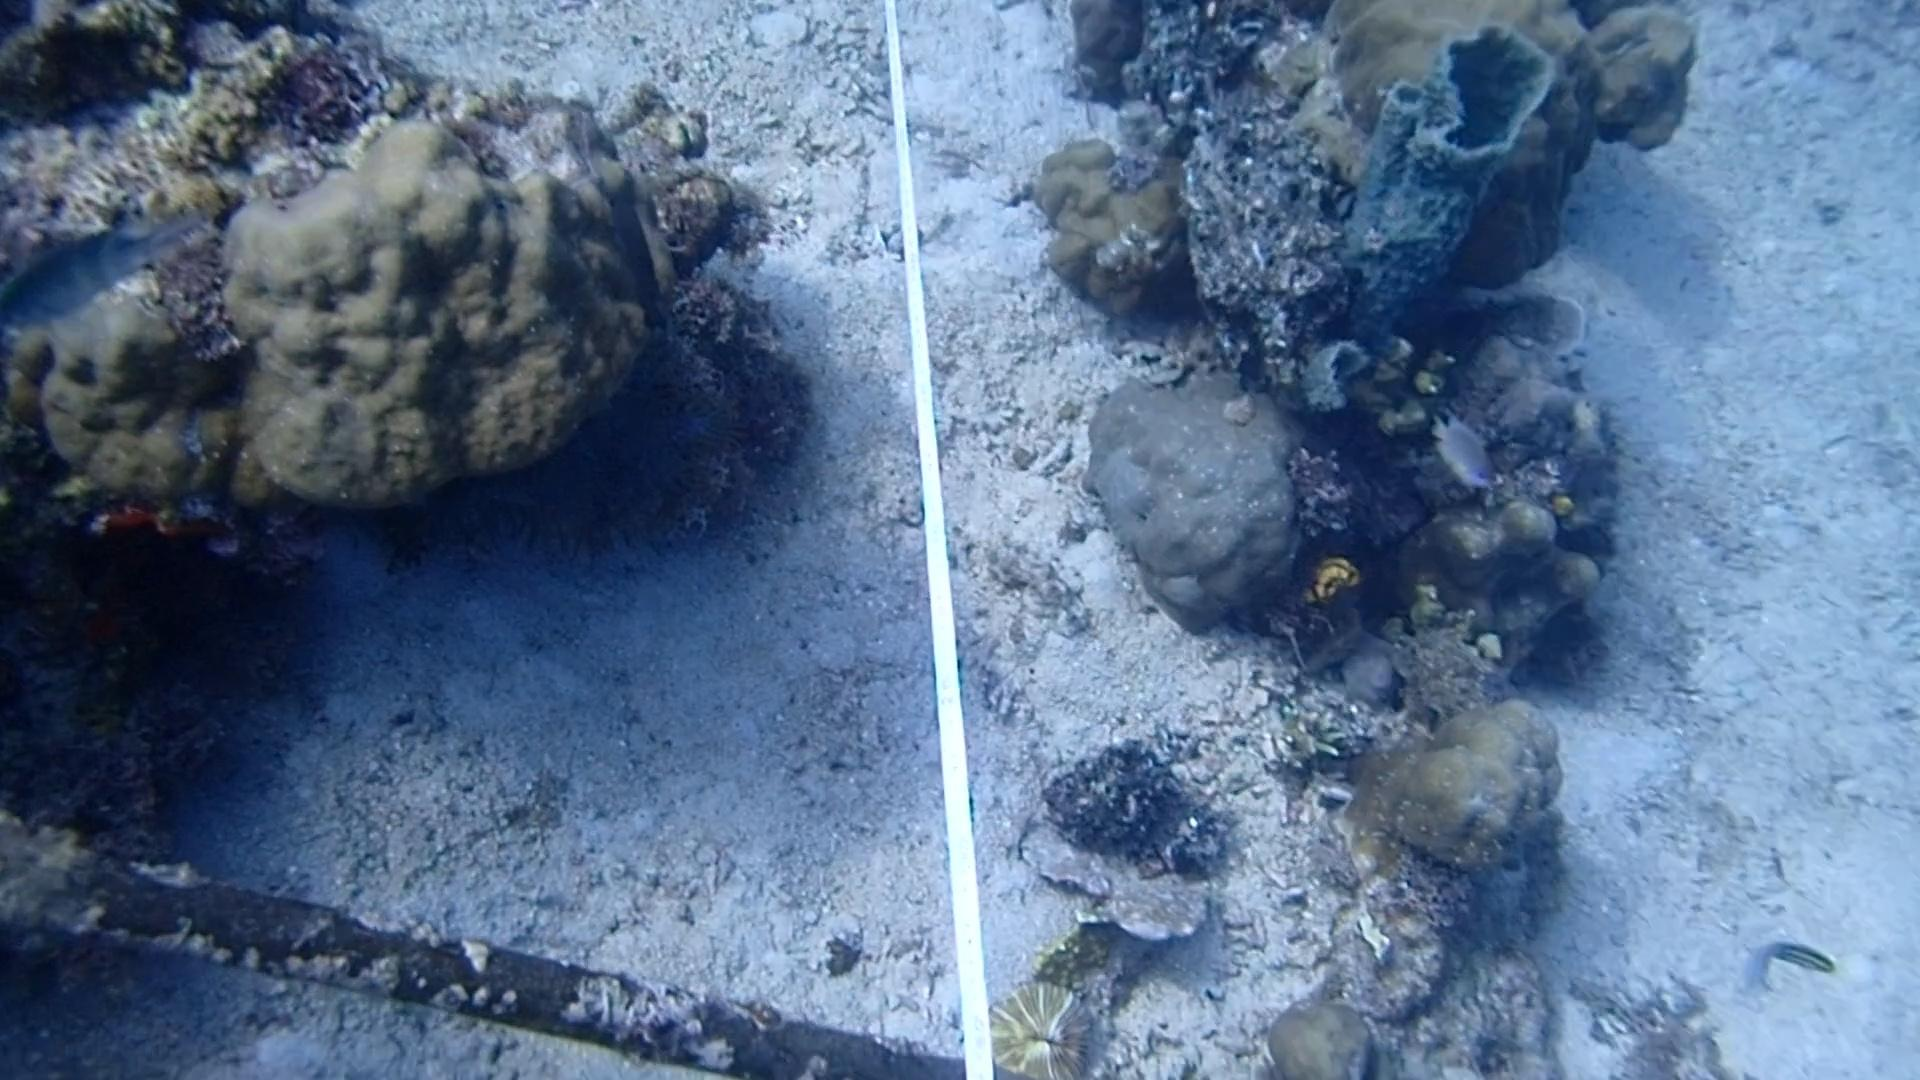Blue Fish: (3, 204, 190, 344)
Blue Nose Fish: (1427, 407, 1501, 496)
Dark Fish: (583, 173, 678, 328)
Striped Fish: (1739, 918, 1849, 1007)
